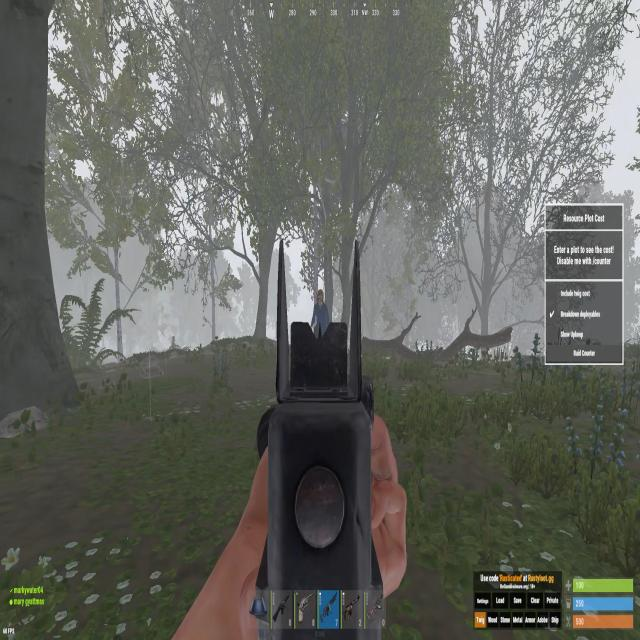Player: (311, 288, 331, 322)
